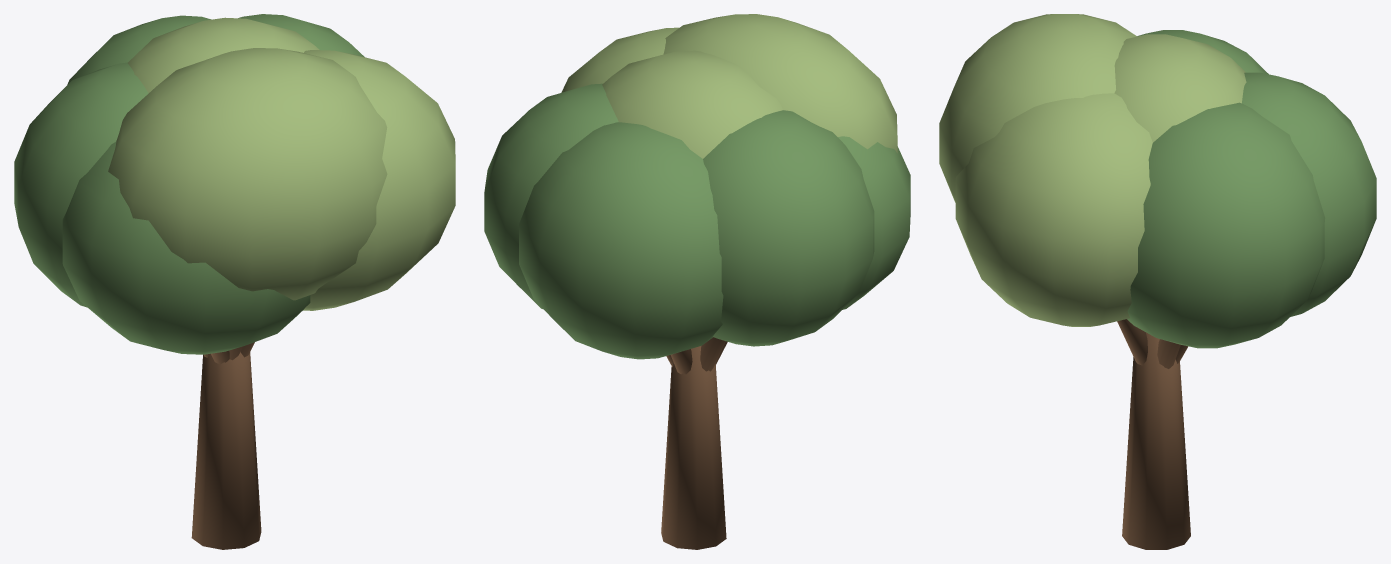
The model's file is oak.glb.
3 views of the same model, side by side, from view 1: azimuth 30°, elevation 25°; view 2: azimuth 150°, elevation 25°; view 3: azimuth 270°, elevation 25° (orthographic). The views are drawn at different scales.
Parts seen in each view (by area): view 1: oak_World_Mesh; view 2: oak_World_Mesh; view 3: oak_World_Mesh.
Part boxes in pixels (left/top/right/bottom): oak_World_Mesh: left=14, top=14, right=455, bottom=549; oak_World_Mesh: left=484, top=14, right=910, bottom=549; oak_World_Mesh: left=939, top=14, right=1376, bottom=549.
Size of the model in its own units: 2.36 by 3.18 by 2.54.
